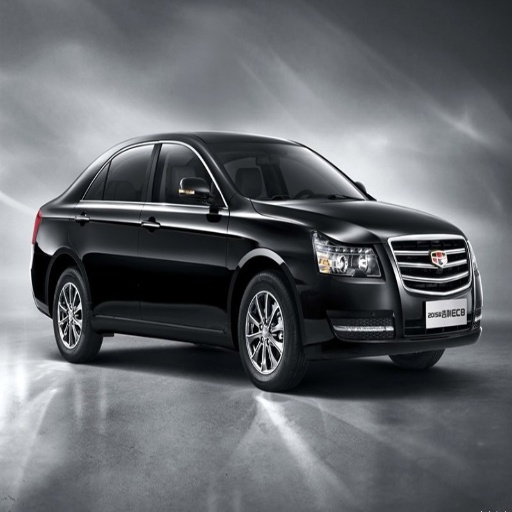back_right_door: (74, 141, 155, 320)
front_bumper: (294, 237, 480, 357)
front_right_door: (139, 142, 226, 330)
front_right_light: (311, 224, 383, 277)
